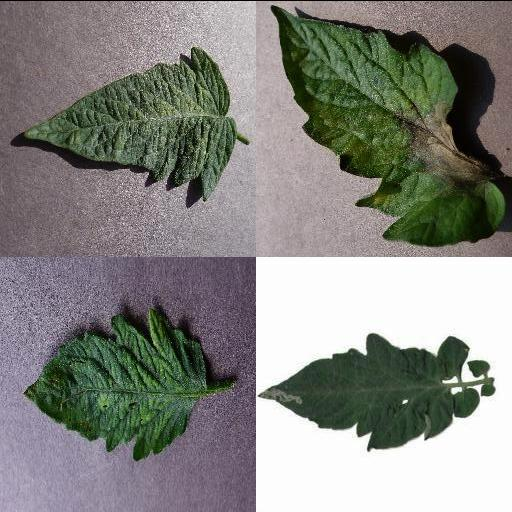Late Blight: (270, 3, 506, 247)
Leaf Miner: (257, 328, 456, 450)
Mosaic Virus: (23, 304, 207, 460)
Spider Mites: (21, 46, 239, 202)
